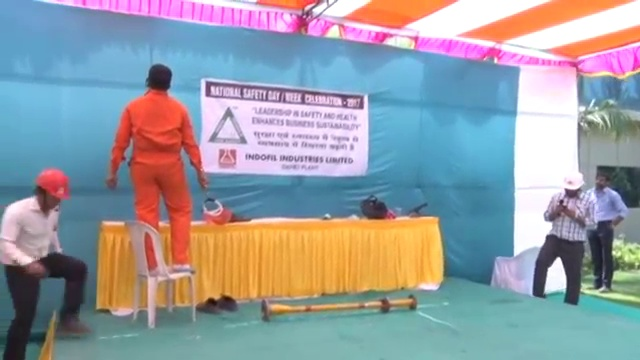helmet: (35, 167, 71, 202), (563, 172, 585, 190)
helmet_off: (144, 62, 173, 93), (594, 170, 611, 193)
helmet_on: (32, 166, 71, 216), (561, 172, 585, 198)
person: (108, 61, 207, 277), (1, 166, 90, 356), (533, 172, 598, 307), (590, 168, 630, 292)
